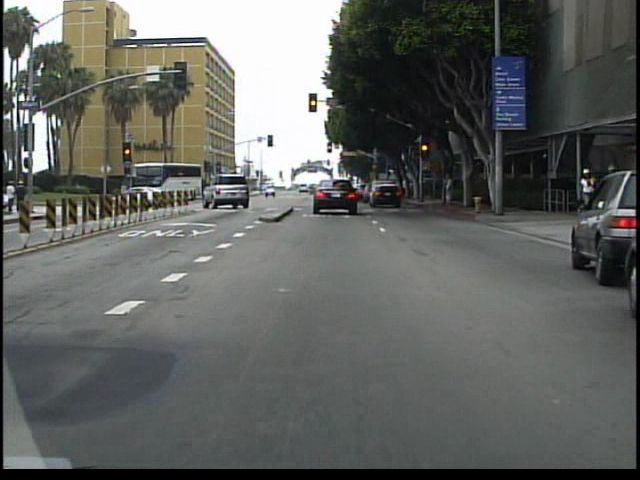person: (440, 168, 456, 210), (18, 176, 30, 212), (9, 177, 18, 215)
